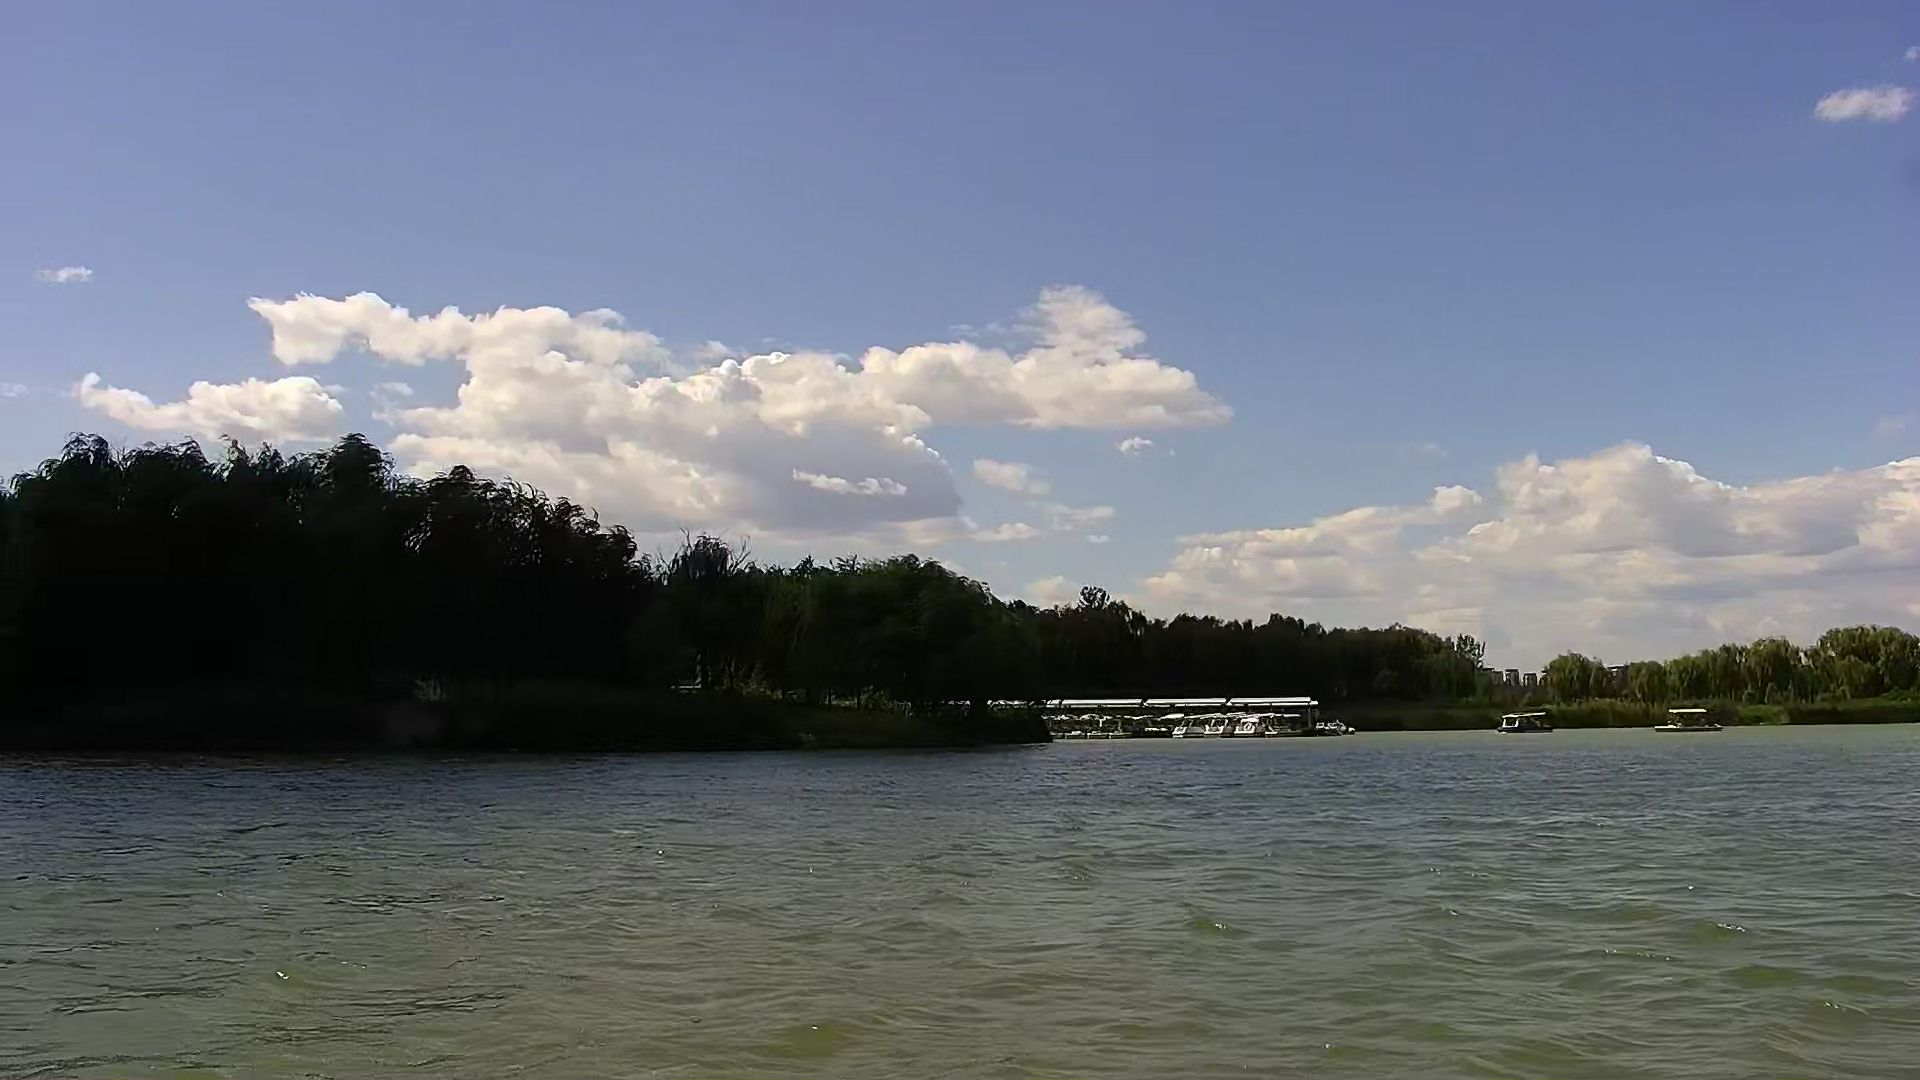boat: (1650, 708, 1727, 736), (1485, 707, 1555, 732)
harbor: (1040, 691, 1360, 741)
